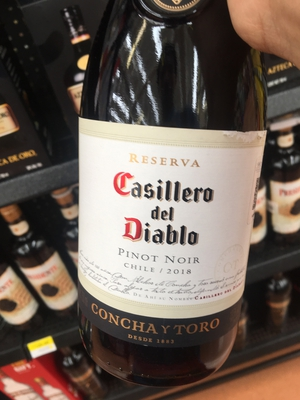casillero del diablo pinot noir: (65, 23, 284, 383)
